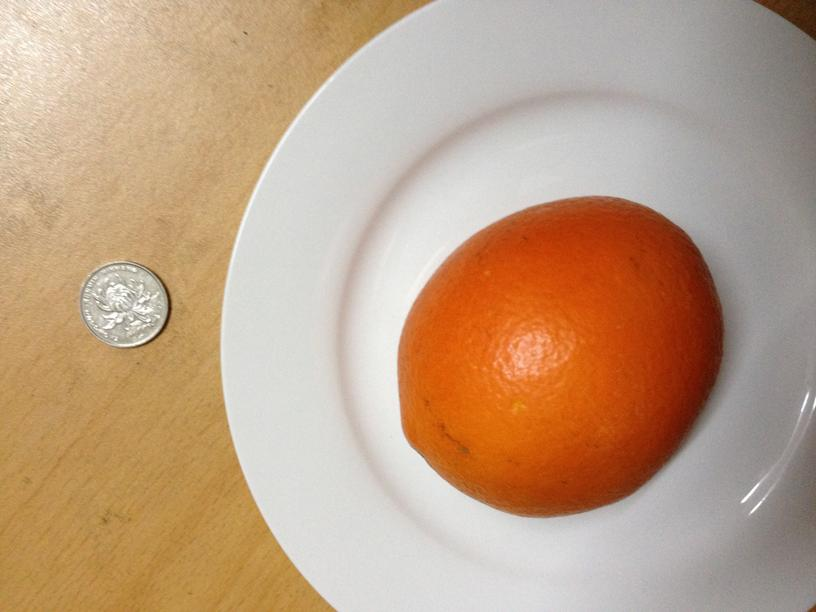coin: (76, 260, 171, 348)
orange: (399, 193, 724, 515)
